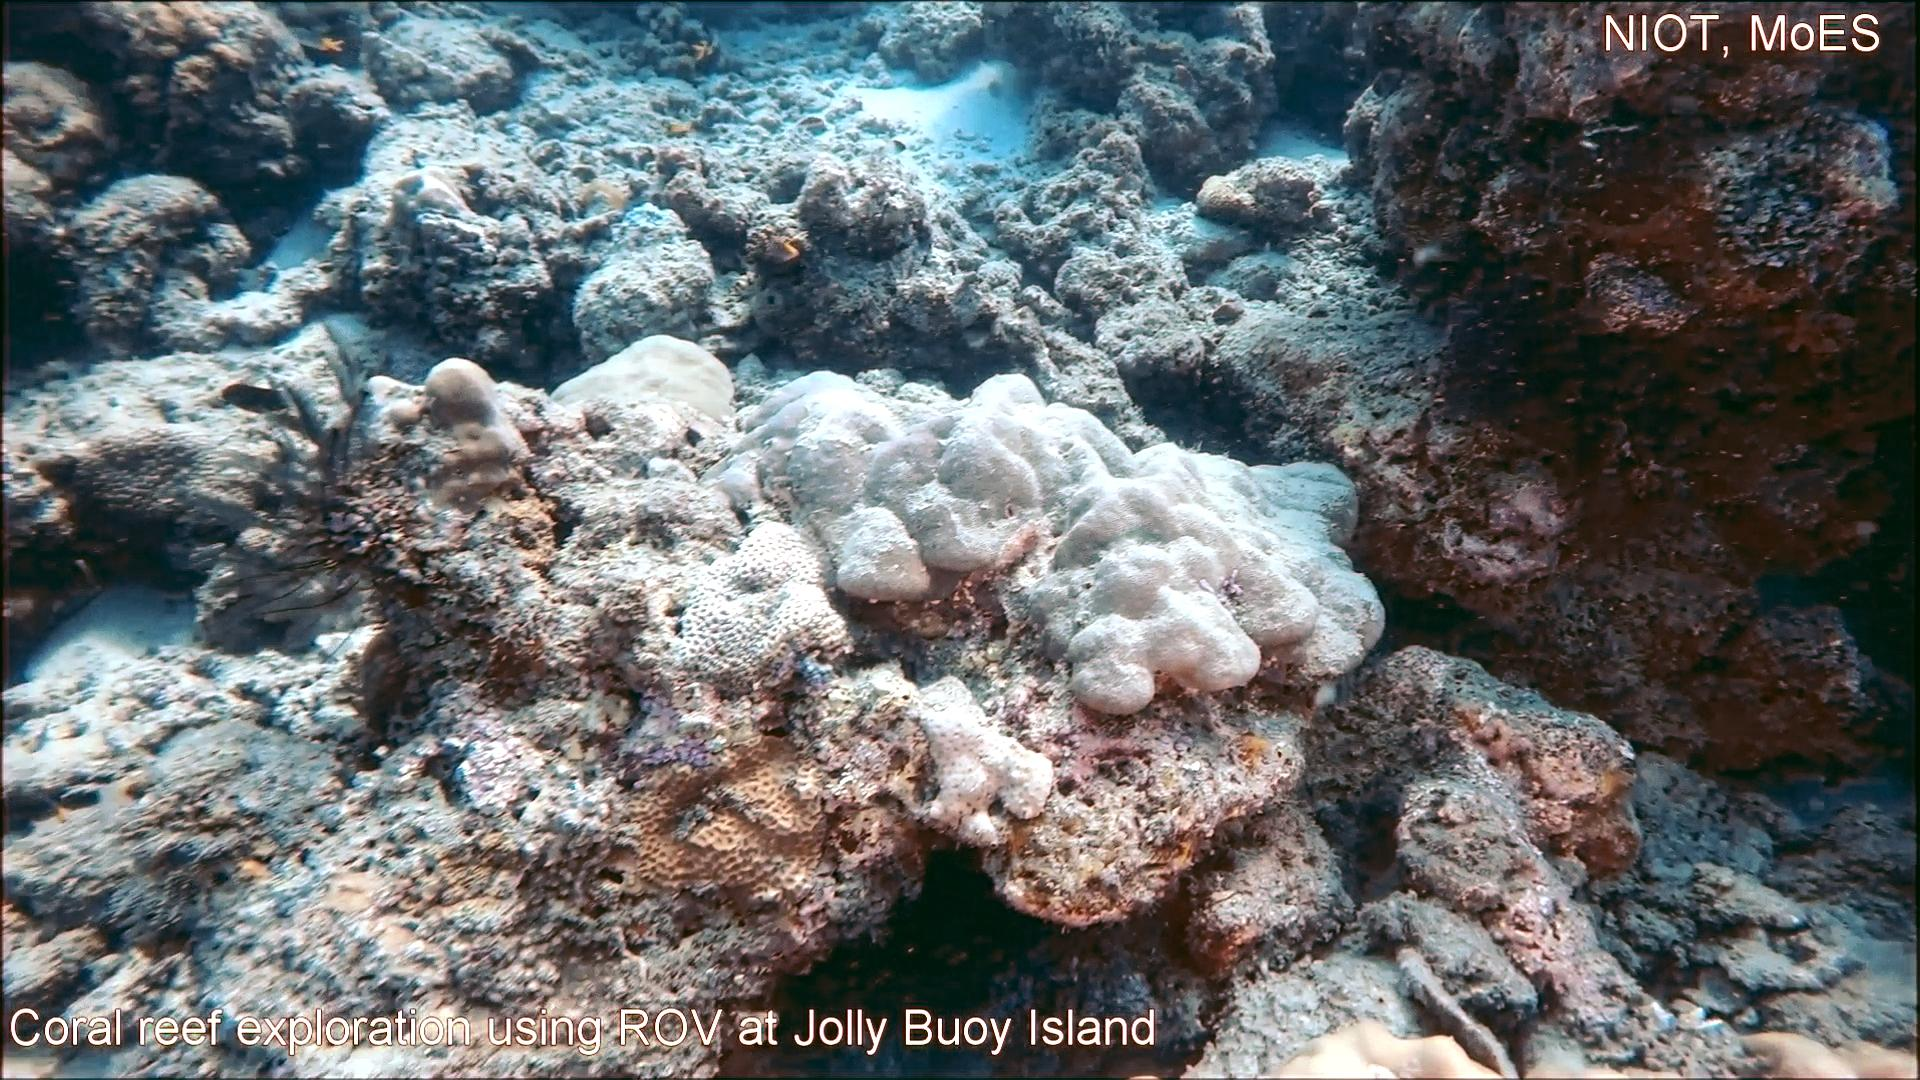Feather star-Crinoid star: (135, 309, 393, 680)
Goniastrea-Goniastrea pectinata: (674, 514, 860, 707)
Porites-Porites pukoensis: (938, 367, 1390, 720)
Turbinaria-Turbinaria stellulata: (65, 414, 264, 538)
